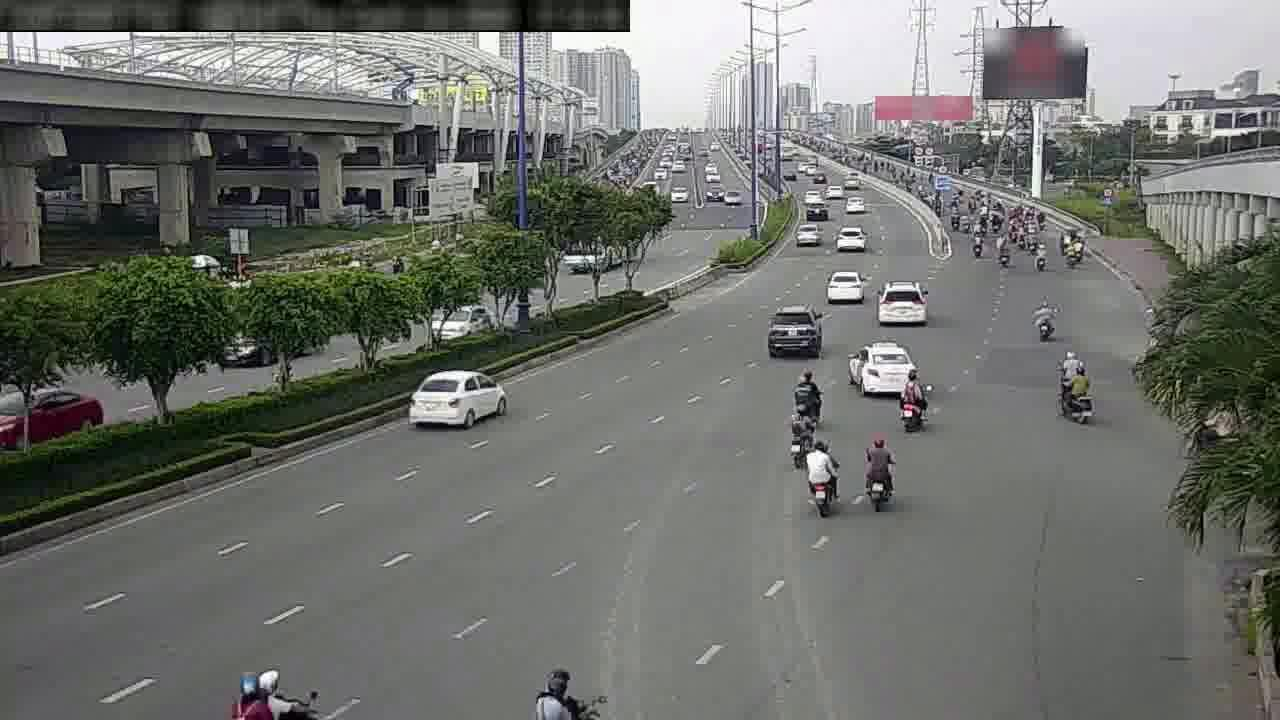container: (407, 370, 501, 434), (761, 302, 826, 362), (851, 341, 915, 399), (874, 282, 930, 330), (824, 268, 868, 308)
motorbike: (862, 435, 901, 513), (891, 369, 936, 436), (803, 440, 838, 515), (1062, 365, 1094, 423), (792, 367, 822, 425), (785, 412, 815, 467), (1033, 302, 1054, 343), (1030, 240, 1051, 272), (966, 230, 987, 260), (995, 239, 1015, 270), (1064, 238, 1079, 265)
